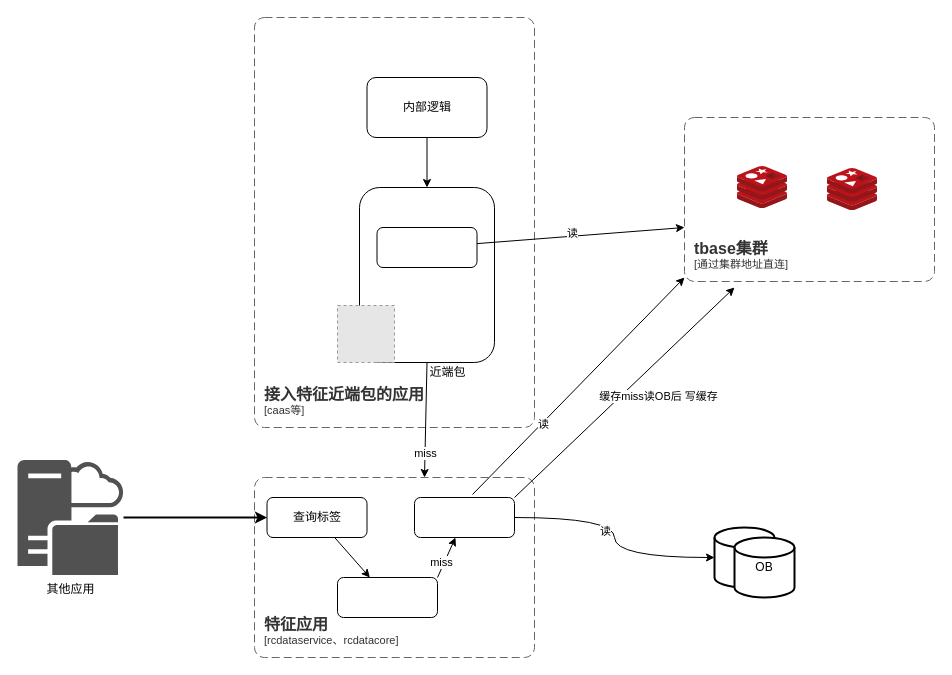
This 952x675 diagram has some shape labels left out. Grey dashed boxes stand in for pictures. Here are the shapes that lost their labels. From the top down, the centre of each, then its label:
point 426,247: 读取Tbase
point 464,517: 缓存读取
point 387,597: 本地缓存
